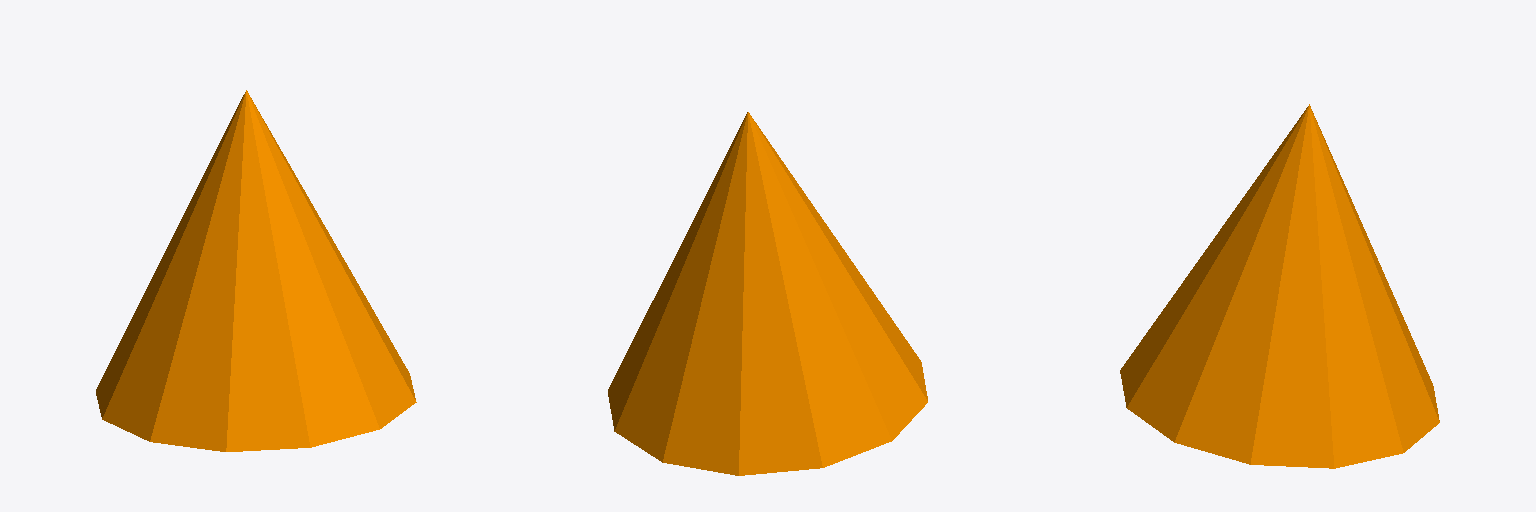
File: FireOrange.obj
3 renders of one model, left to right at view 1: azimuth 30°, elevation 25°; view 2: azimuth 150°, elevation 25°; view 3: azimuth 270°, elevation 25°, orthographic.
Visible parts, largest first — view 1: group[number redacted]; view 2: group[number redacted]; view 3: group[number redacted].
Boxes of the visible parts, box(x1,y1,x2,y2) form: group[number redacted]: box(96, 90, 416, 451); group[number redacted]: box(608, 112, 927, 475); group[number redacted]: box(1120, 104, 1439, 468).
Bounding box in the file's own units: 0.0984 × 0.1042 × 0.0979.